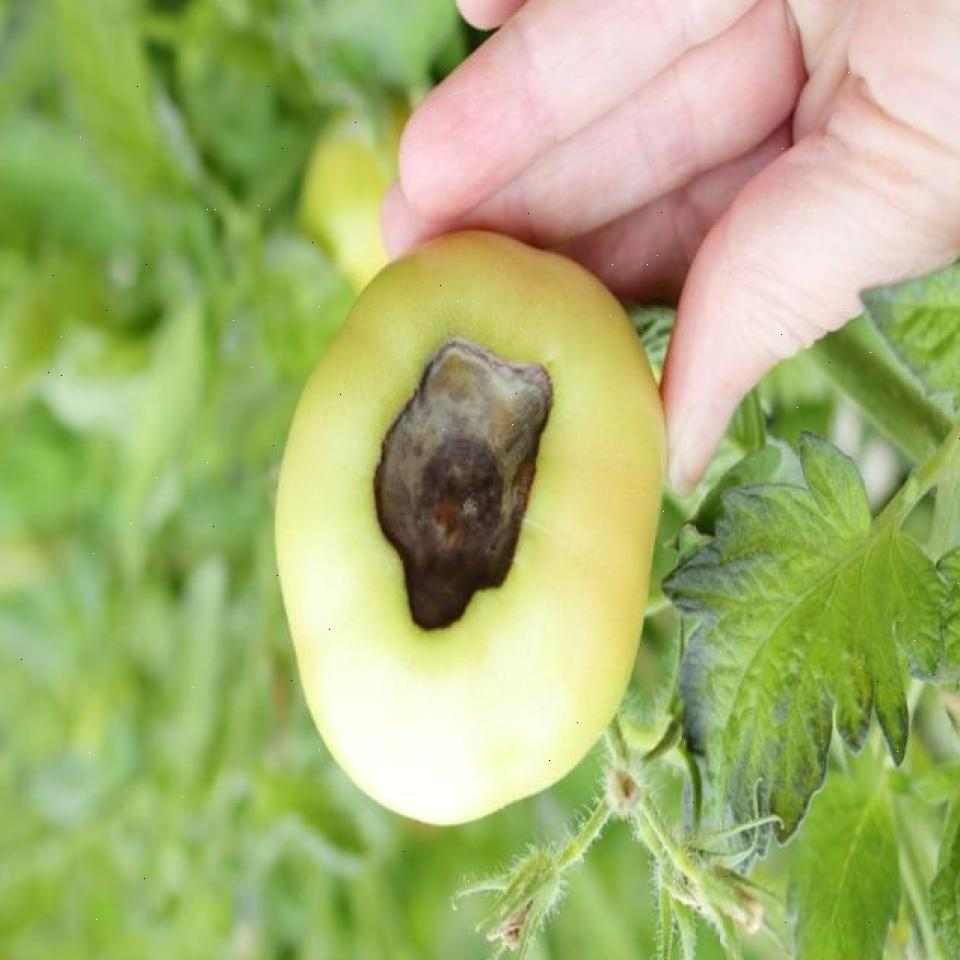Blossom_end_rot: (368, 336, 562, 648)
